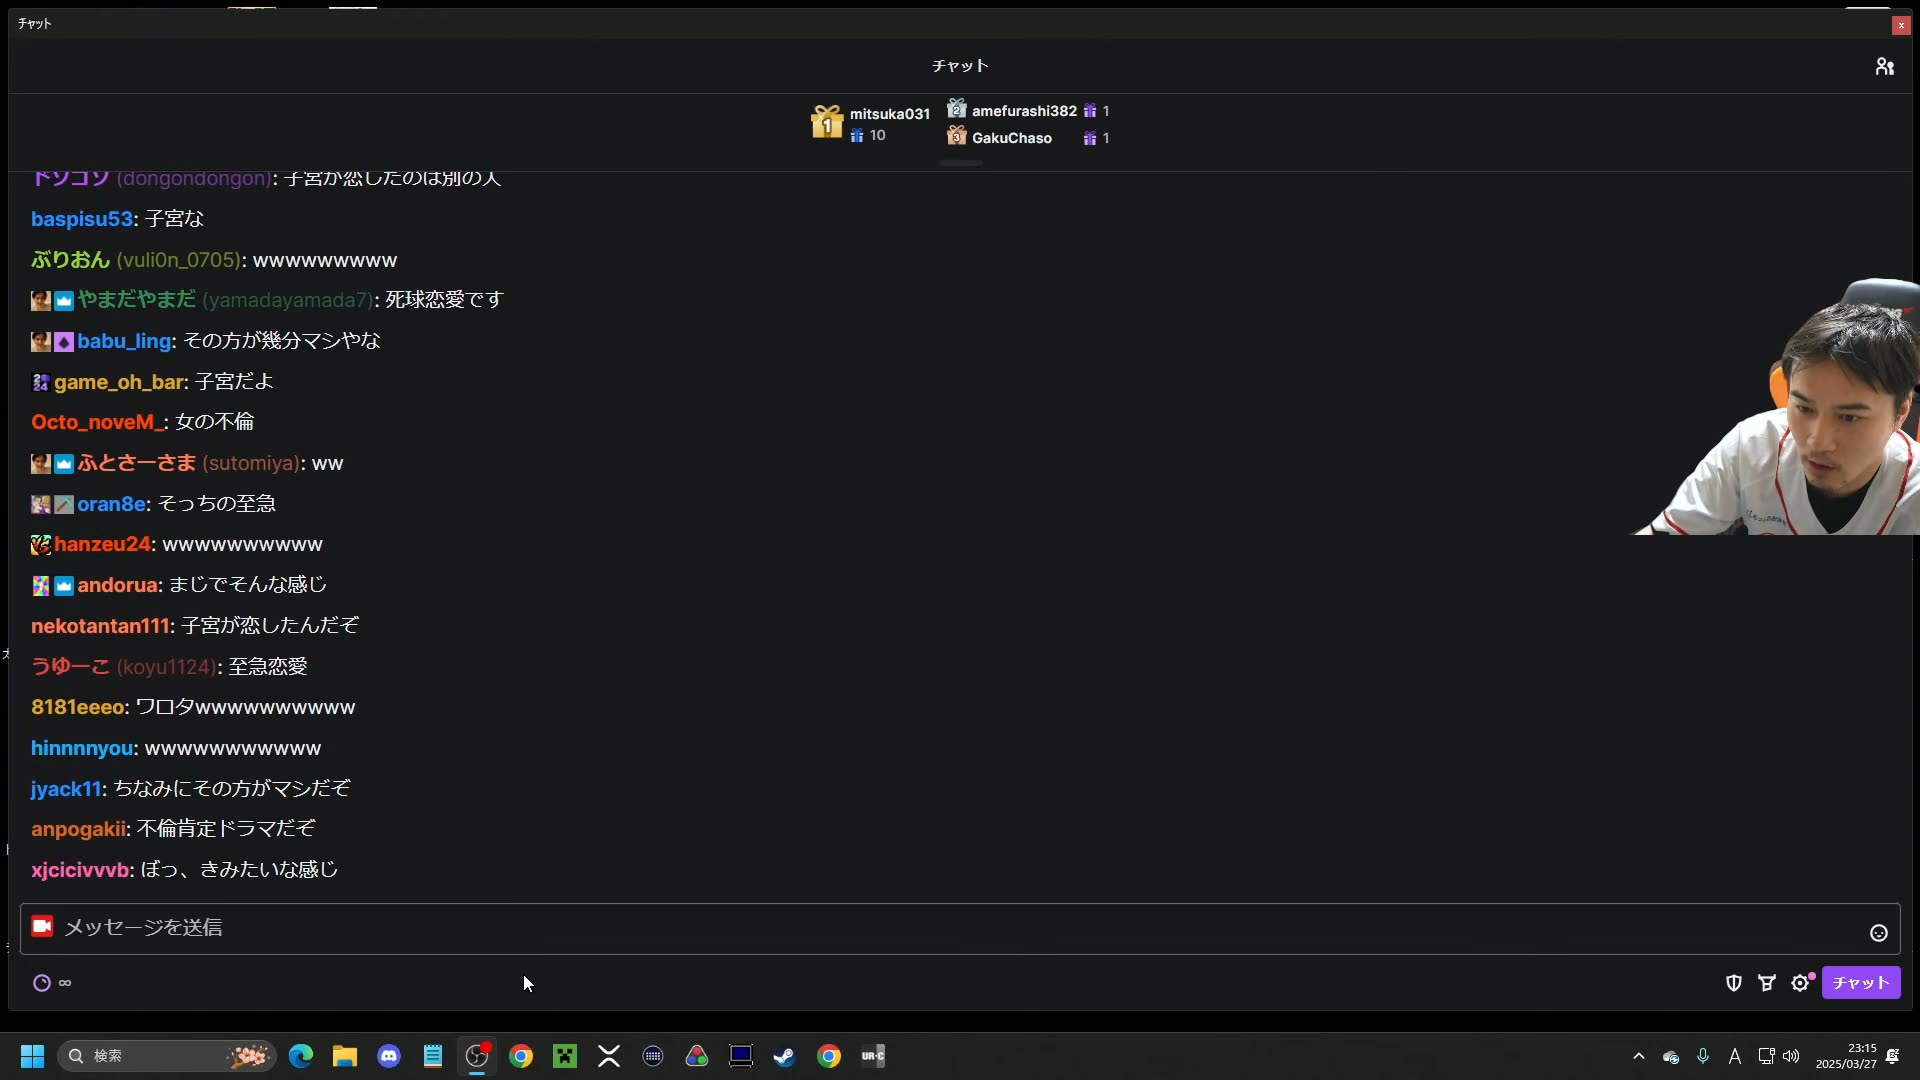stream_tag: (1629, 269, 1920, 530)
